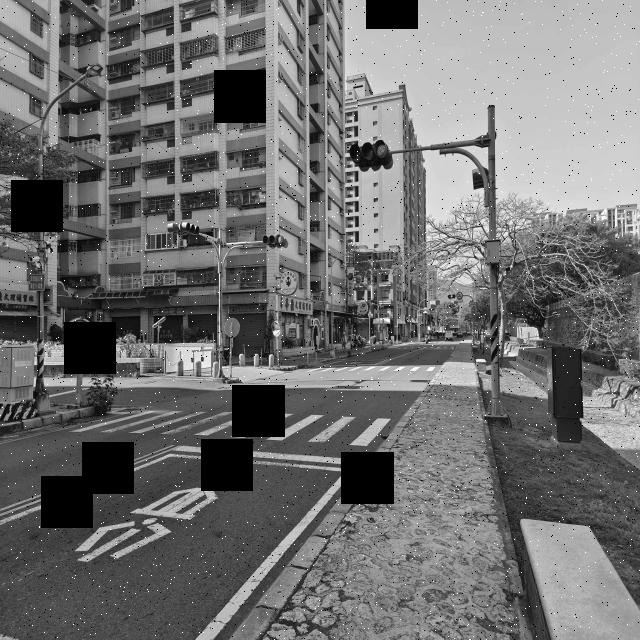zebra_crossing: (95, 185, 524, 557), (171, 174, 626, 523), (0, 207, 261, 640)
